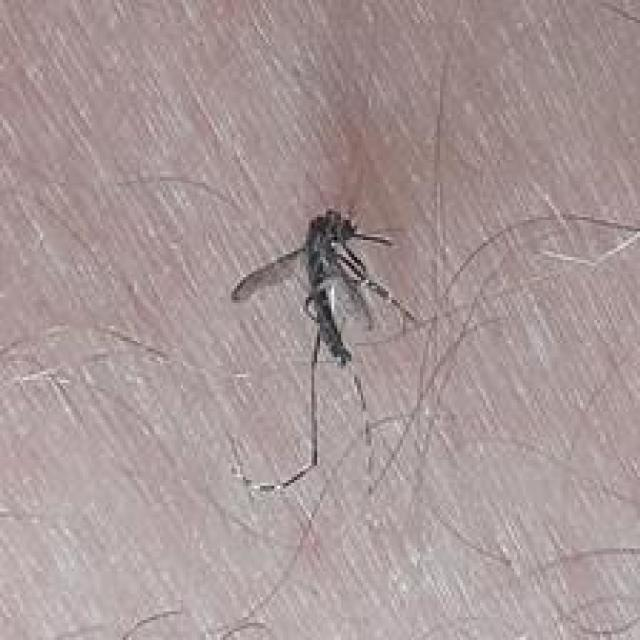Aedes albopictus: (229, 206, 420, 494)
